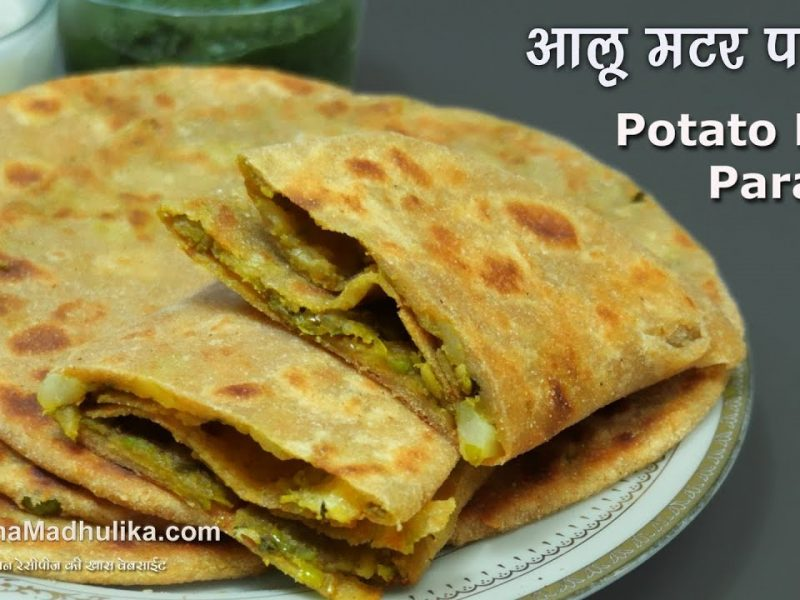aloo_paratha: (3, 66, 742, 600)
